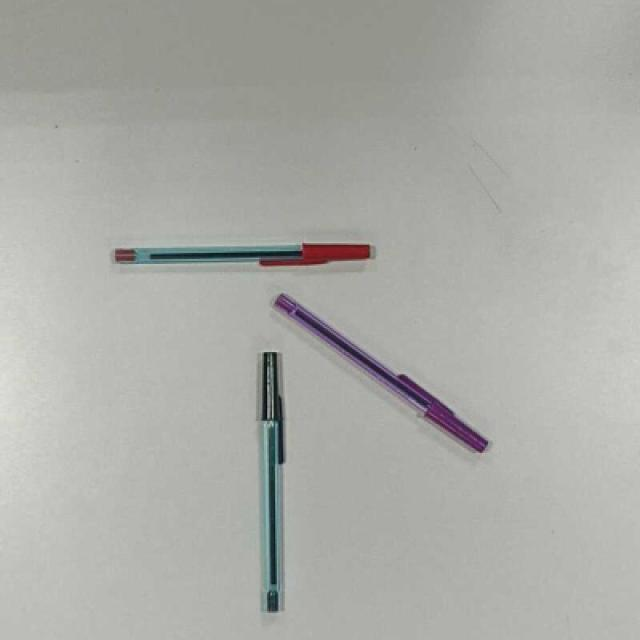caneta: (273, 286, 492, 457), (257, 352, 288, 612), (116, 243, 371, 266)
